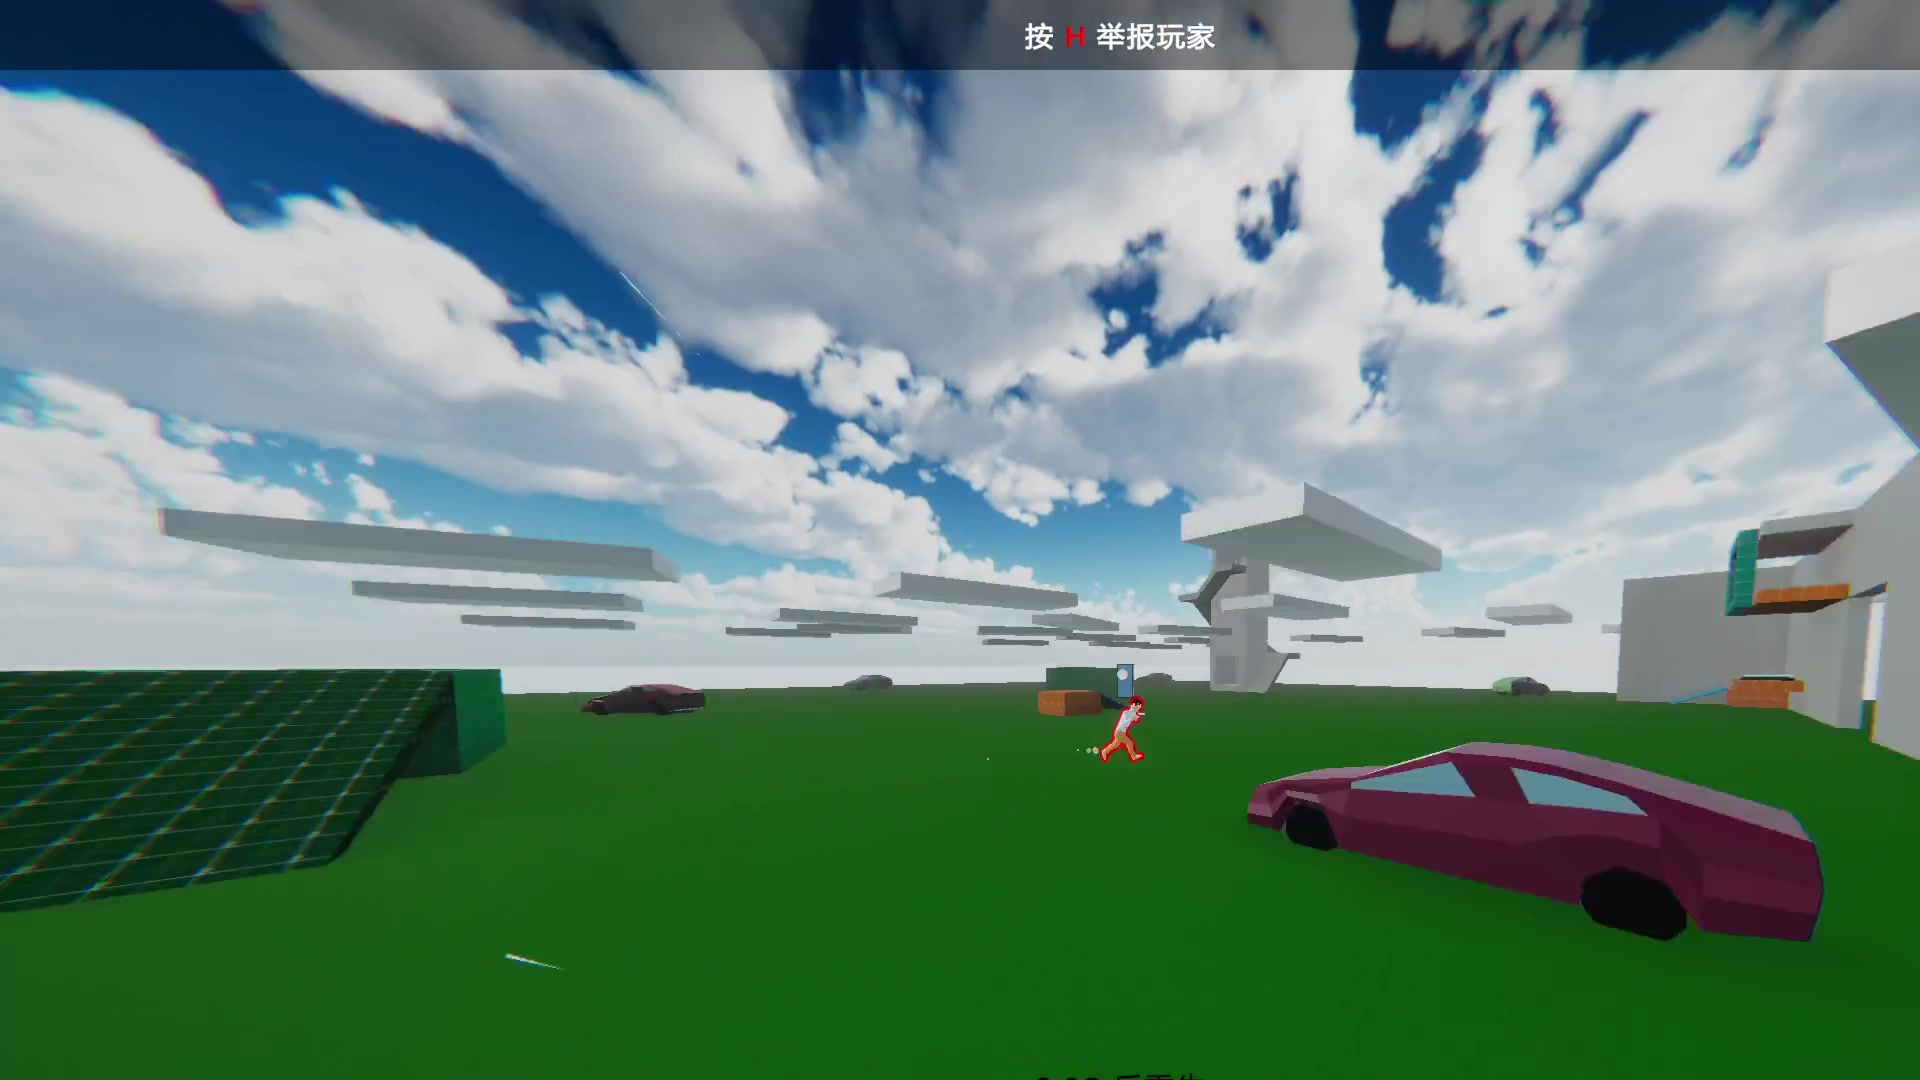human: (1114, 698, 1146, 763)
